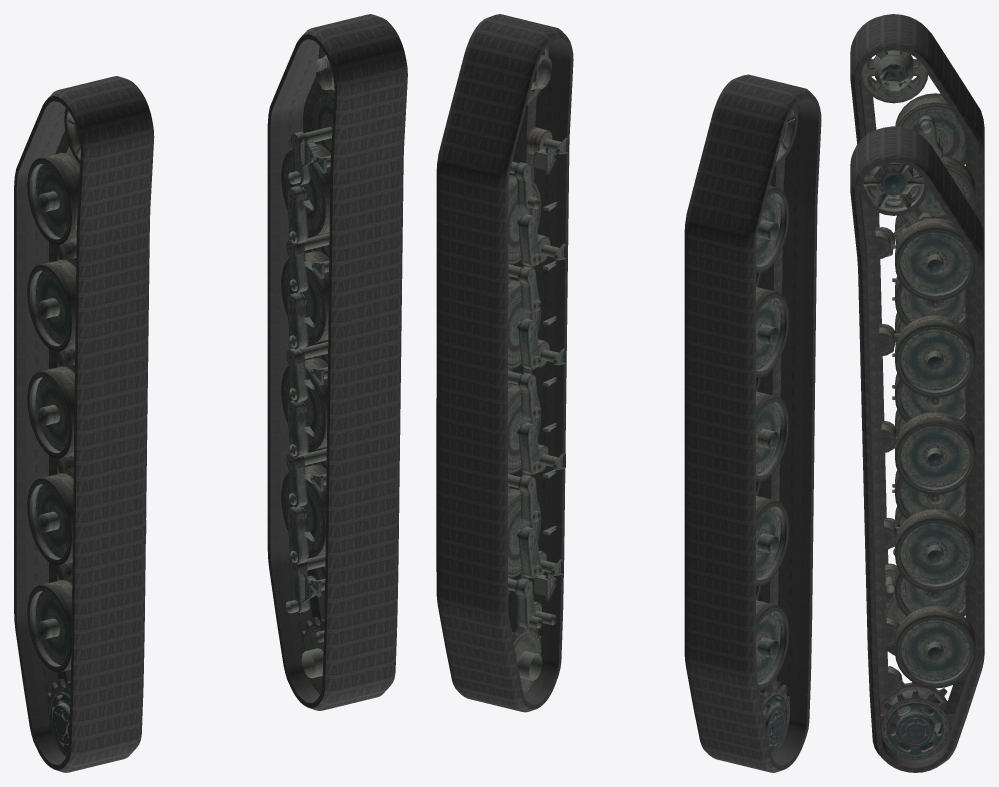
The model's file is Chassis.glb.
3 views of the same model, side by side, from view 1: azimuth 30°, elevation 25°; view 2: azimuth 150°, elevation 25°; view 3: azimuth 270°, elevation 25° (orthographic). The views are drawn at different scales.
Visible parts, largest first — view 1: set_5_group_0, set_4_group_0, set_3_group_0, set_1_group_0, set_0_group_0; view 2: set_5_group_0, set_4_group_0, set_1_group_0, set_3_group_0, set_0_group_0; view 3: set_1_group_0, set_4_group_0, set_5_group_0, set_3_group_0.
Part boxes in pixels (<box>): set_5_group_0: <box>14,76,154,772</box>; set_4_group_0: <box>267,14,407,710</box>; set_3_group_0: <box>27,108,146,756</box>; set_1_group_0: <box>281,46,334,694</box>; set_0_group_0: <box>286,185,329,449</box>; set_5_group_0: <box>684,74,821,772</box>; set_4_group_0: <box>436,14,573,712</box>; set_1_group_0: <box>508,46,568,695</box>; set_3_group_0: <box>756,106,797,757</box>; set_0_group_0: <box>508,214,539,472</box>; set_1_group_0: <box>860,162,975,760</box>; set_4_group_0: <box>850,126,984,772</box>; set_5_group_0: <box>850,14,984,655</box>; set_3_group_0: <box>860,50,975,623</box>.
Size of the model in its own units: 3.4 by 6.87 by 1.35.
6 materials, 6 textured.
